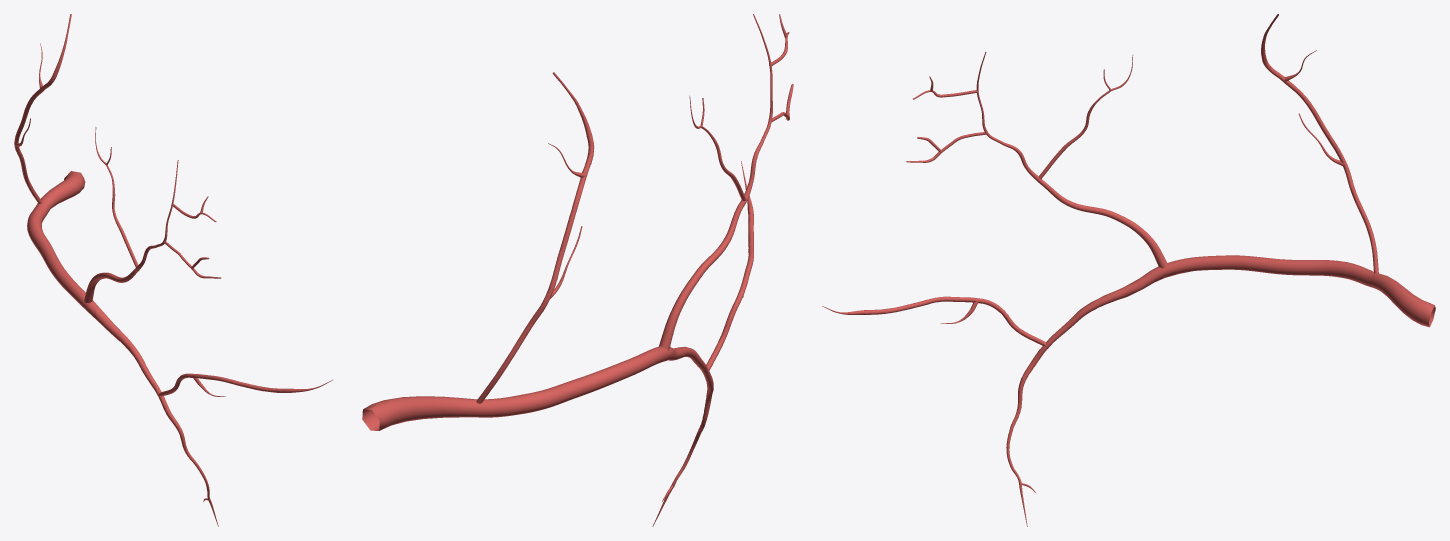
The picture shows the model from 3 angles, left to right: view 1: azimuth 30°, elevation 25°; view 2: azimuth 150°, elevation 25°; view 3: azimuth 270°, elevation 25°; orthographic projection. The views are drawn at different scales.
Parts seen in each view (by area): view 1: 右侧颞浅动脉; view 2: 右侧颞浅动脉; view 3: 右侧颞浅动脉.
Boxes of the visible parts, left/top/right/bottom form: 右侧颞浅动脉: left=14, top=14, right=333, bottom=526; 右侧颞浅动脉: left=362, top=14, right=793, bottom=526; 右侧颞浅动脉: left=822, top=14, right=1435, bottom=526.
Size of the model in its own units: 0.0487 by 0.164 by 0.185.
